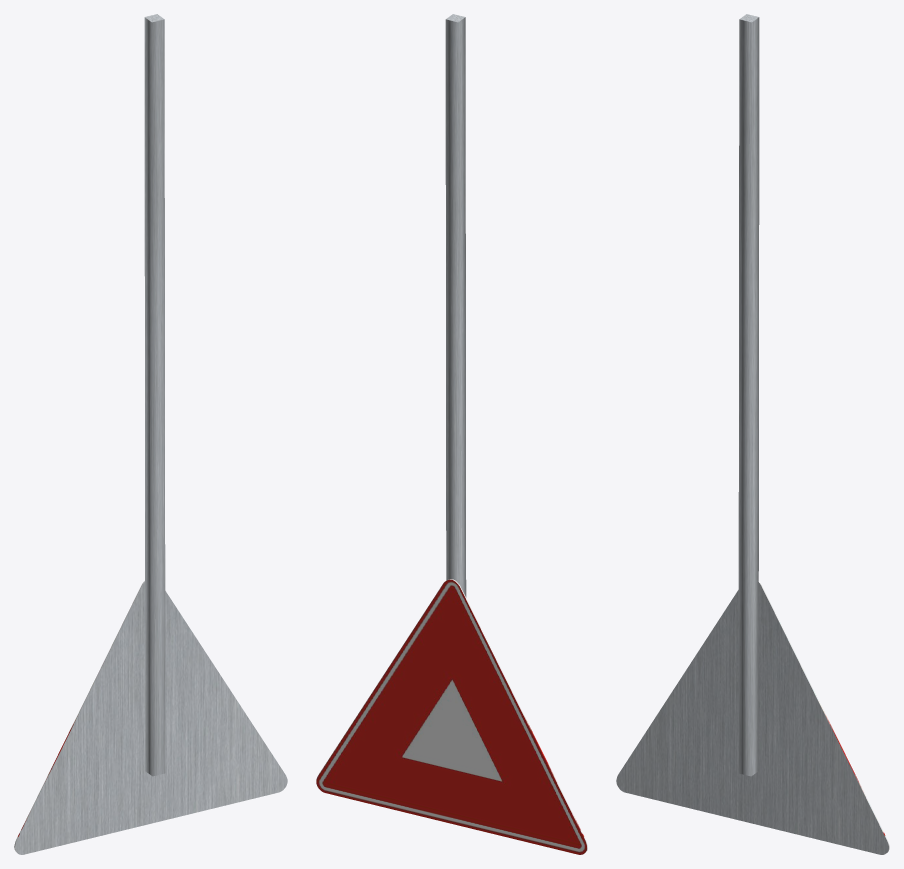
The model's file is sign5.fbx.
The picture shows the model from 3 angles, left to right: view 1: azimuth 30°, elevation 25°; view 2: azimuth 150°, elevation 25°; view 3: azimuth 330°, elevation 25°; orthographic projection.
Parts seen in each view (by area): view 1: cedeaza; view 2: cedeaza; view 3: cedeaza.
Part boxes in pixels (x1,y1,x2,y2): cedeaza: (14, 14, 287, 854); cedeaza: (316, 14, 587, 854); cedeaza: (616, 14, 889, 854).
Size of the model in its own units: 232 by 656 by 12.67.
Materials: 1 (1 with a texture image).
